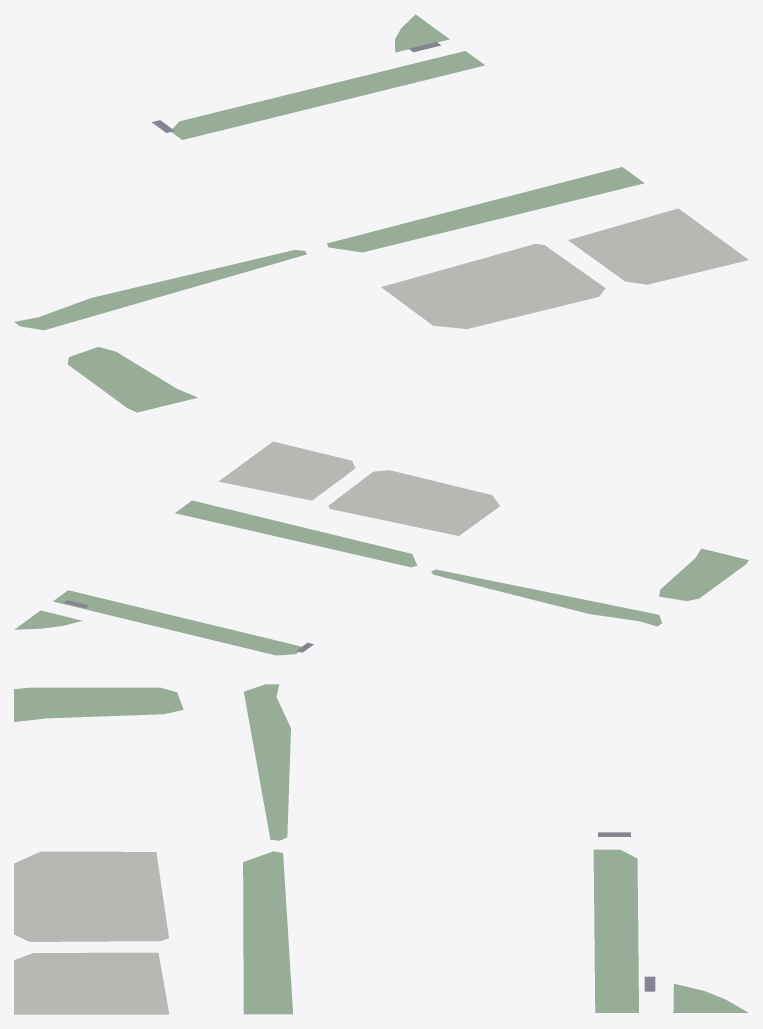
The model's file is 126_66_mid.glb.
The picture shows the model from 3 angles, top to bottom: view 1: azimuth 30°, elevation 25°; view 2: azimuth 150°, elevation 25°; view 3: azimuth 270°, elevation 25°; orthographic projection. The views are drawn at different scales.
Bounding box in the file's own units: 500 × 10.75 × 470.
